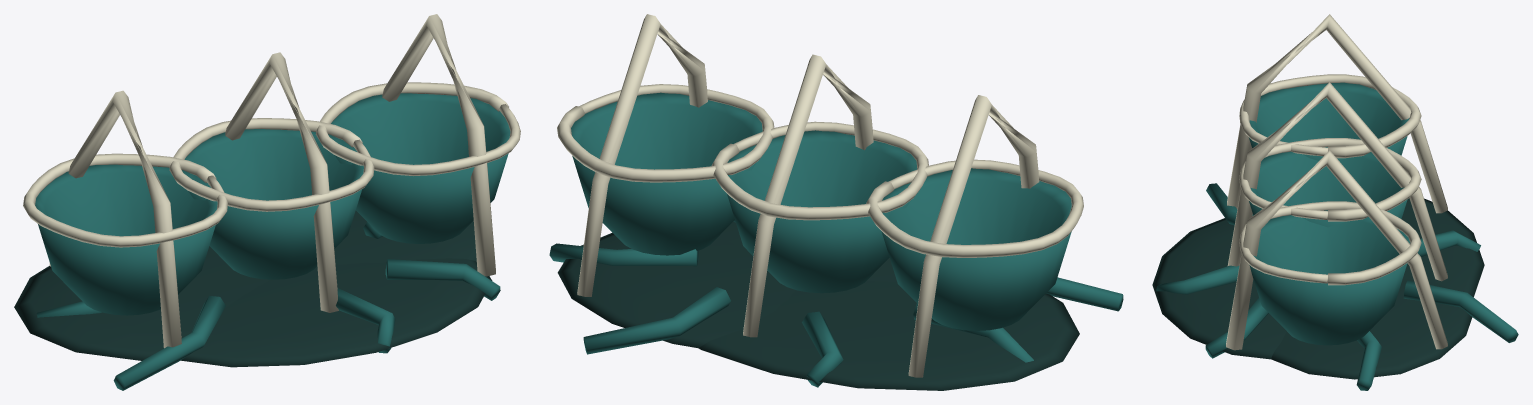
File: building_general_store_a.obj
3 views of the same model, side by side, from view 1: azimuth 30°, elevation 25°; view 2: azimuth 150°, elevation 25°; view 3: azimuth 270°, elevation 25° (orthographic). The views are drawn at different scales.
Parts seen in each view (by area): view 1: irregular_anchoring_lobe.023, open_living_cup.018, open_living_cup.020, open_living_cup.019, irregular_anchoring_lobe.021, arched_storage_rib.002, arched_storage_rib.001, arched_storage_rib, grown_cup_lip.018, grown_cup_lip.020, grown_cup_lip.019, irregular_anchoring_lobe.022 (+4 smaller); view 2: irregular_anchoring_lobe.021, open_living_cup.018, open_living_cup.020, open_living_cup.019, irregular_anchoring_lobe.022, arched_storage_rib.001, arched_storage_rib, arched_storage_rib.002, grown_cup_lip.018, grown_cup_lip.020, grown_cup_lip.019, anchoring_root.050 (+5 smaller); view 3: open_living_cup.020, irregular_anchoring_lobe.023, irregular_anchoring_lobe.022, open_living_cup.018, arched_storage_rib.002, open_living_cup.019, arched_storage_rib, arched_storage_rib.001, grown_cup_lip.020, irregular_anchoring_lobe.021, grown_cup_lip.018, grown_cup_lip.019 (+6 smaller).
Part boxes in pixels (left/top/right/bottom): irregular_anchoring_lobe.023: left=181, top=258, right=492, bottom=367; open_living_cup.018: left=35, top=164, right=217, bottom=315; open_living_cup.020: left=329, top=93, right=510, bottom=243; open_living_cup.019: left=182, top=129, right=363, bottom=279; irregular_anchoring_lobe.021: left=14, top=246, right=269, bottom=360; arched_storage_rib.002: left=382, top=14, right=495, bottom=276; arched_storage_rib.001: left=225, top=52, right=338, bottom=312; arched_storage_rib: left=49, top=90, right=181, bottom=348; grown_cup_lip.018: left=23, top=153, right=227, bottom=247; grown_cup_lip.020: left=315, top=82, right=520, bottom=175; grown_cup_lip.019: left=169, top=118, right=374, bottom=211; irregular_anchoring_lobe.022: left=334, top=210, right=476, bottom=264; irregular_anchoring_lobe.021: left=698, top=281, right=1079, bottom=390; open_living_cup.018: left=881, top=168, right=1071, bottom=330; open_living_cup.020: left=571, top=92, right=762, bottom=255; open_living_cup.019: left=727, top=130, right=917, bottom=293; irregular_anchoring_lobe.022: left=557, top=232, right=795, bottom=348; arched_storage_rib.001: left=743, top=54, right=873, bottom=337; arched_storage_rib: left=908, top=95, right=1039, bottom=377; arched_storage_rib.002: left=577, top=14, right=707, bottom=296; grown_cup_lip.018: left=866, top=159, right=1083, bottom=257; grown_cup_lip.020: left=557, top=84, right=774, bottom=182; grown_cup_lip.019: left=711, top=121, right=928, bottom=220; anchoring_root.050: left=583, top=287, right=730, bottom=354; open_living_cup.020: left=1249, top=210, right=1410, bottom=345; irregular_anchoring_lobe.023: left=1152, top=218, right=1286, bottom=359; irregular_anchoring_lobe.022: left=1271, top=278, right=1472, bottom=379; open_living_cup.018: left=1249, top=82, right=1409, bottom=160; arched_storage_rib.002: left=1226, top=150, right=1447, bottom=350; open_living_cup.019: left=1249, top=147, right=1407, bottom=227; arched_storage_rib: left=1227, top=14, right=1447, bottom=213; arched_storage_rib.001: left=1227, top=82, right=1447, bottom=281; grown_cup_lip.020: left=1239, top=201, right=1421, bottom=285; irregular_anchoring_lobe.021: left=1401, top=198, right=1484, bottom=297; grown_cup_lip.018: left=1239, top=74, right=1421, bottom=158; grown_cup_lip.019: left=1239, top=138, right=1421, bottom=221.
Bounding box in the file's own units: 3.61 × 1.74 × 2.73.
